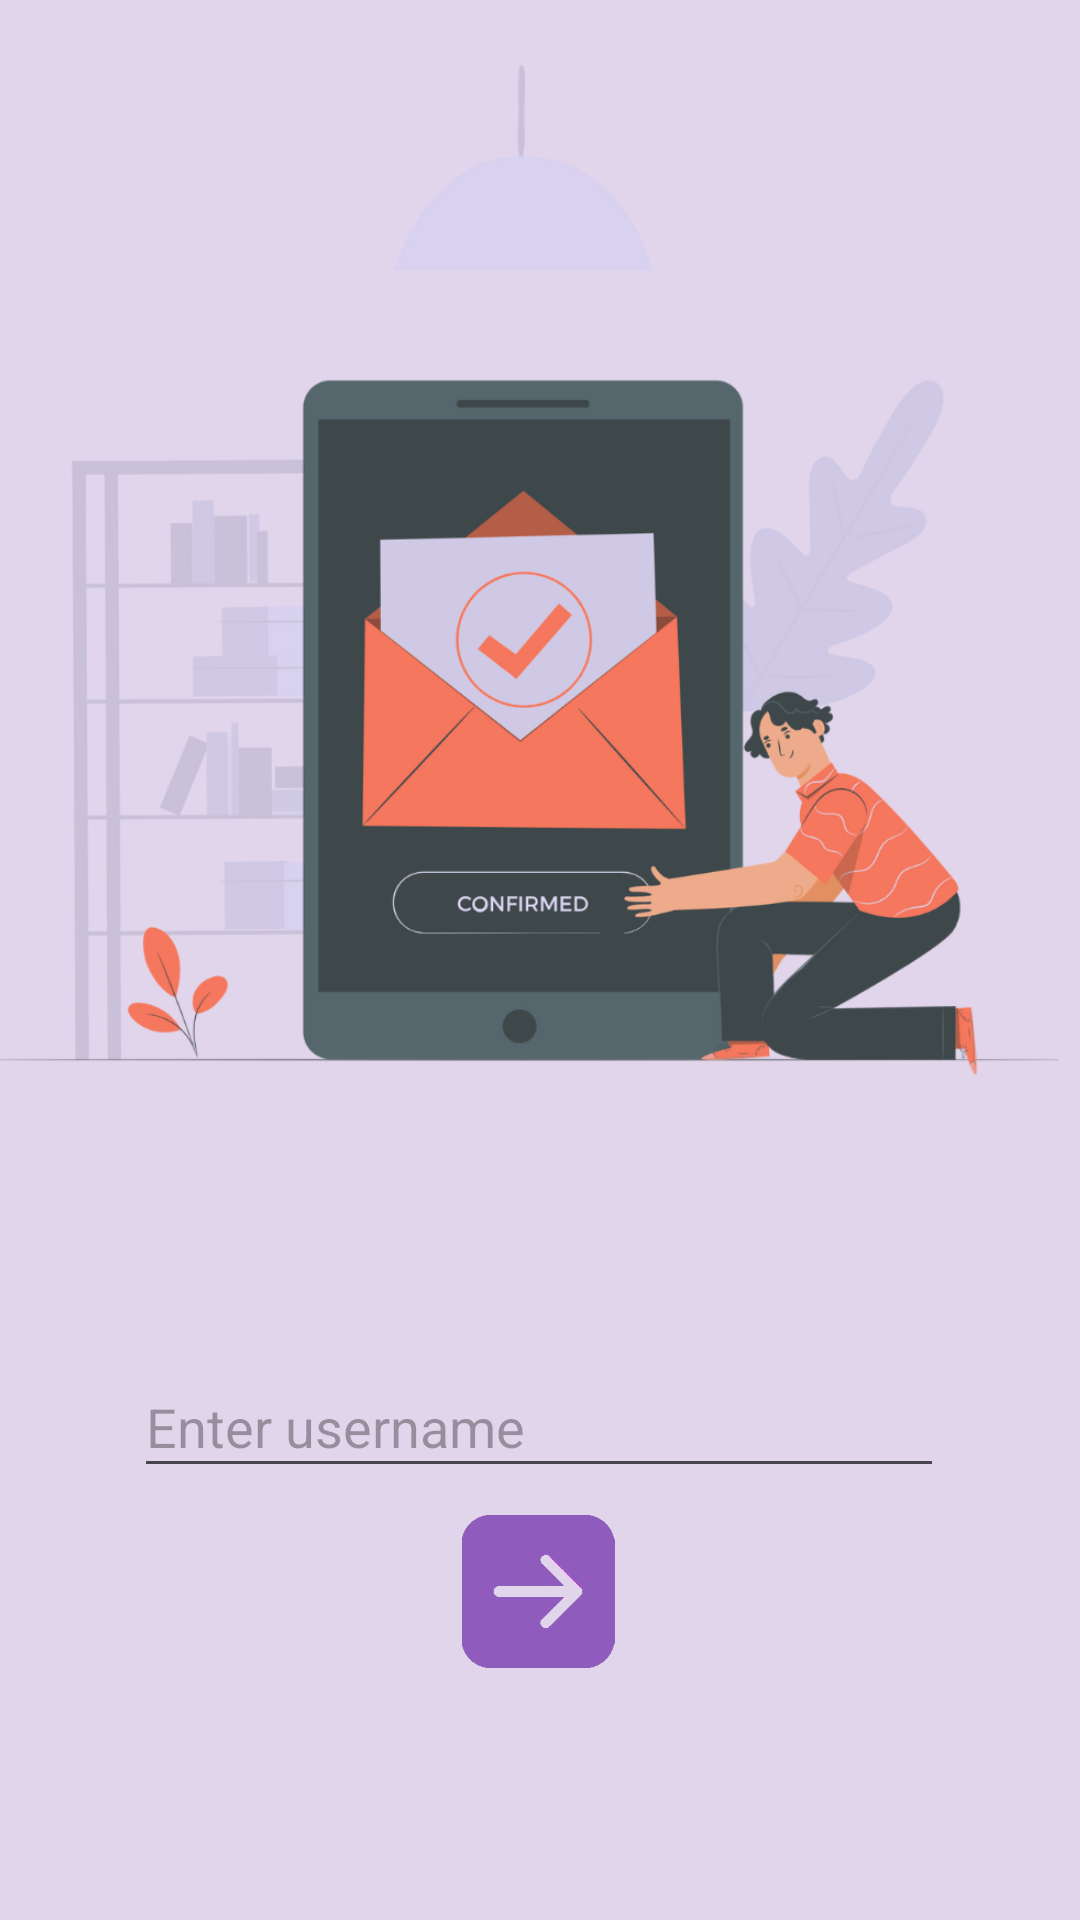

Where to tap for icons on this 1080×1920 app screen, as (x,y):
nextarrow: (538,1591)
